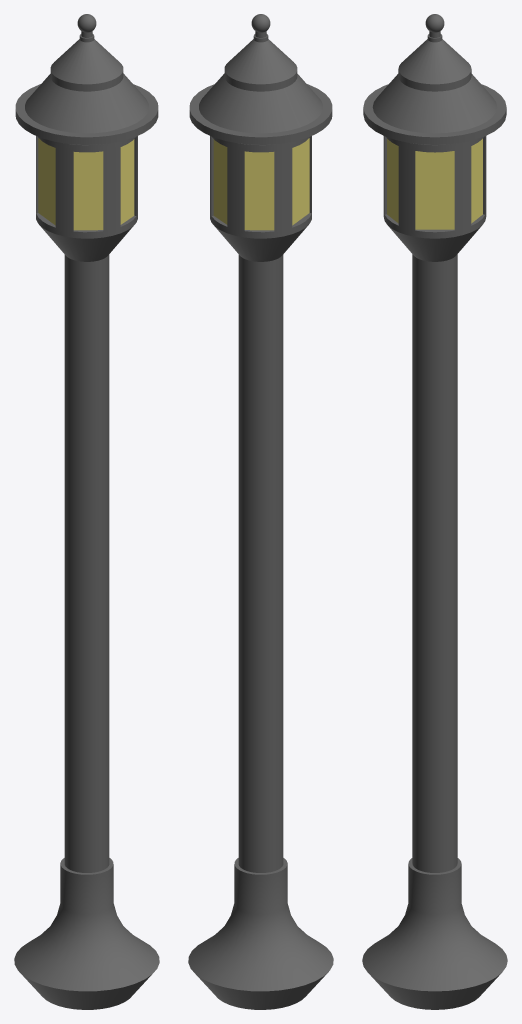
Rendered from street_lamp.glb.
3 renders of one model, left to right at view 1: azimuth 30°, elevation 25°; view 2: azimuth 150°, elevation 25°; view 3: azimuth 270°, elevation 25°, orthographic.
Parts seen in each view (by area): view 1: Cylinder; view 2: Cylinder; view 3: Cylinder.
Boxes of the visible parts, left/top/right/bottom form: Cylinder: left=14, top=14, right=159, bottom=1009; Cylinder: left=188, top=14, right=333, bottom=1009; Cylinder: left=362, top=14, right=507, bottom=1009.
Bounding box in the file's own units: 121 × 893 × 121.
